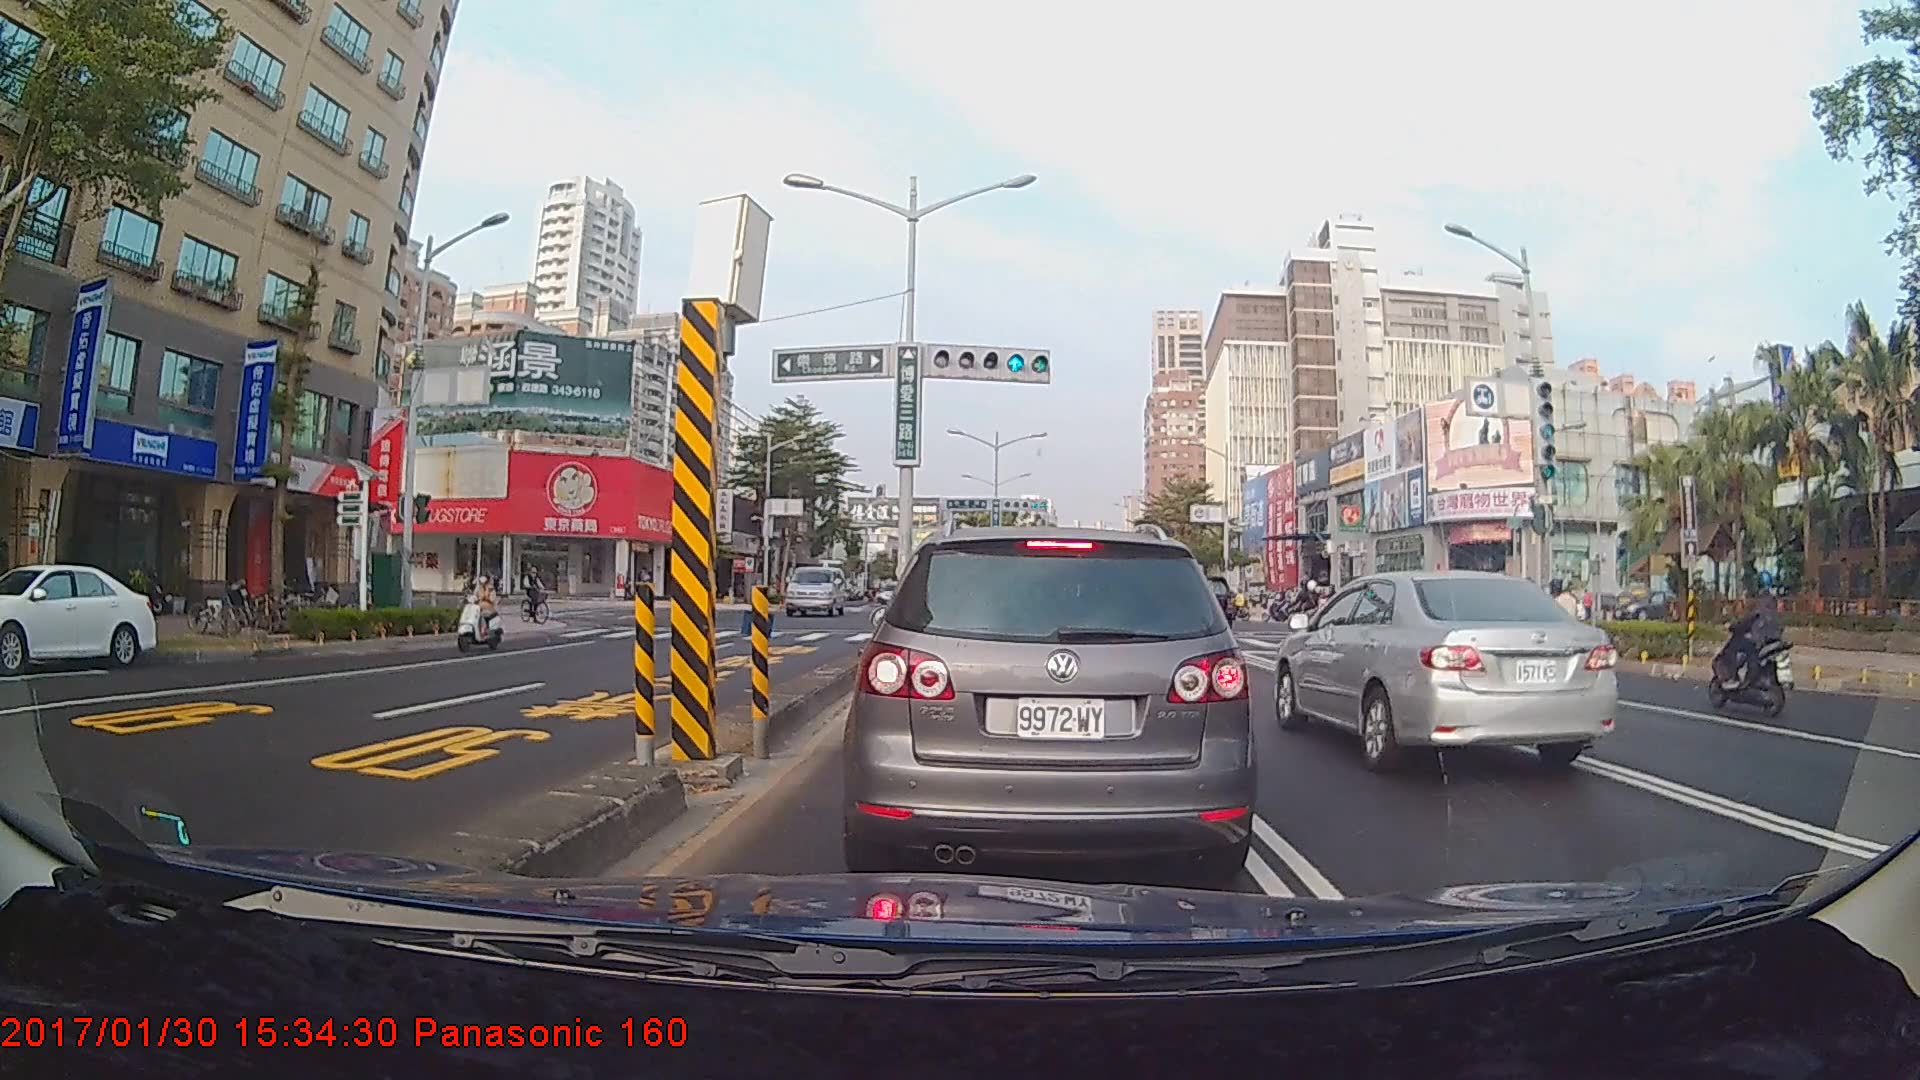rider: (1711, 567, 1799, 715), (451, 567, 515, 662), (518, 559, 561, 629)
vehicle: (854, 522, 1246, 880), (1269, 565, 1619, 778), (0, 561, 157, 671), (784, 565, 846, 618)
